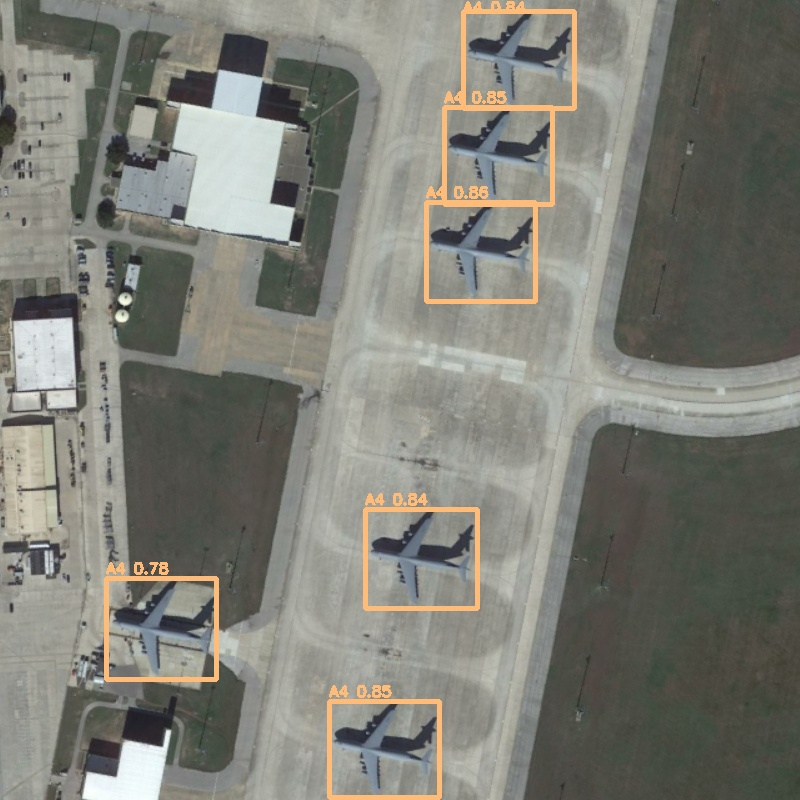A4: (106, 578, 216, 679), (365, 509, 477, 608), (426, 202, 535, 301), (463, 11, 574, 108), (329, 701, 439, 797), (444, 107, 552, 204)
